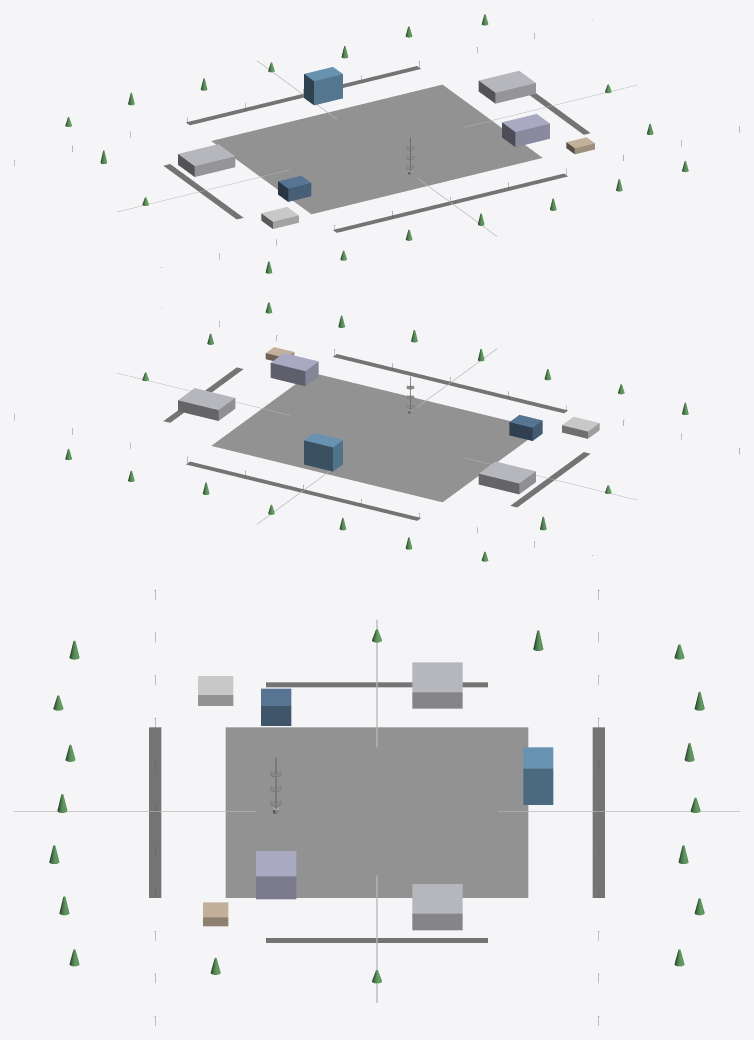
File: communication_site.glb
3 views of the same model, one above another, from view 1: azimuth 30°, elevation 25°; view 2: azimuth 150°, elevation 25°; view 3: azimuth 270°, elevation 25° (orthographic). The views are drawn at different scales.
Visible parts, largest first — view 1: 厂区地面, 生产车间A, 生产车间B, 主办公楼, 立体仓库, 道路, 道路.001, 数据中心, 员工宿舍, 道路.002; view 2: 厂区地面, 生产车间A, 生产车间B, 主办公楼, 立体仓库, 道路, 道路.001, 数据中心, 员工宿舍, 道路.002; view 3: 厂区地面, 生产车间A, 生产车间B, 道路, 道路.001, 立体仓库, 主办公楼, 数据中心, 道路.003, 员工宿舍, 道路.002.
Part boxes in pixels (box(x1,y1,x2,y2)): 厂区地面: box(211, 84, 542, 214); 生产车间A: box(178, 144, 235, 176); 生产车间B: box(478, 71, 535, 103); 主办公楼: box(304, 67, 342, 105); 立体仓库: box(502, 114, 549, 146); 道路: box(333, 173, 567, 232); 道路.001: box(186, 66, 420, 125); 数据中心: box(278, 175, 311, 201); 员工宿舍: box(261, 207, 298, 228); 道路.002: box(163, 164, 243, 219); 厂区地面: box(211, 374, 527, 502); 生产车间A: box(478, 461, 535, 494); 生产车间B: box(178, 388, 235, 420); 主办公楼: box(304, 433, 342, 471); 立体仓库: box(270, 353, 318, 386); 道路: box(333, 354, 567, 413); 道路.001: box(186, 461, 420, 520); 数据中心: box(509, 415, 542, 440); 员工宿舍: box(562, 416, 599, 438); 道路.002: box(510, 452, 590, 507); 厂区地面: box(225, 727, 528, 897); 生产车间A: box(412, 662, 462, 708); 生产车间B: box(412, 884, 462, 930); 道路: box(149, 727, 161, 897); 道路.001: box(592, 727, 604, 897); 立体仓库: box(256, 851, 296, 899); 主办公楼: box(523, 747, 553, 804); 数据中心: box(261, 688, 291, 725); 道路.003: box(266, 938, 487, 942); 员工宿舍: box(198, 676, 233, 705); 道路.002: box(266, 682, 487, 687).
Bounding box in the file's own units: 501 × 30 × 360.
